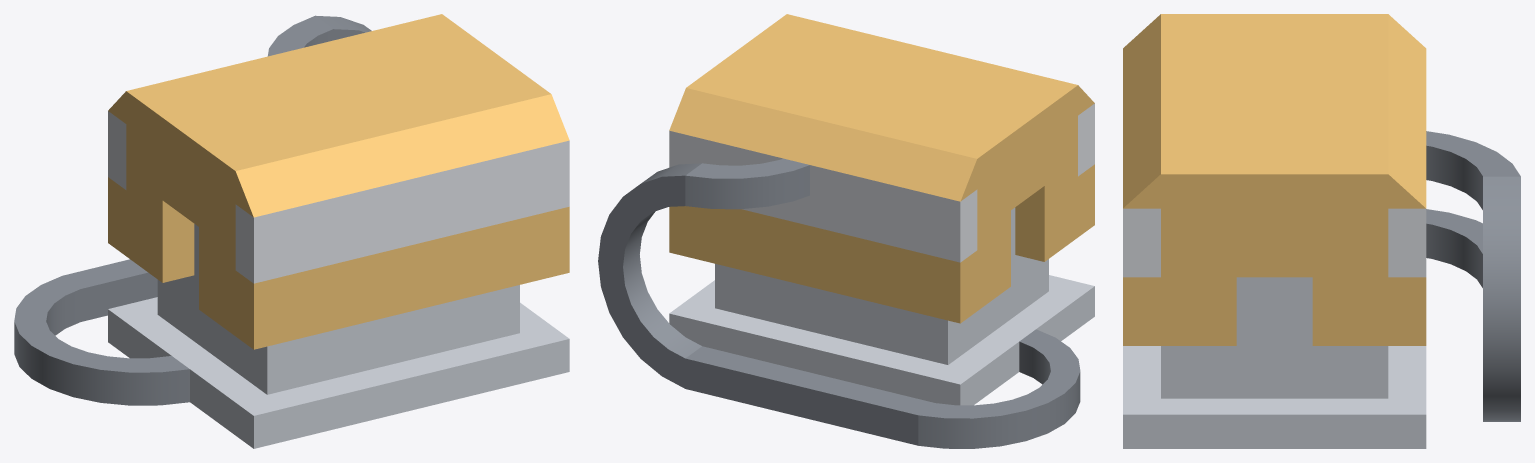
The model's file is machine_generator.glb.
The picture shows the model from 3 angles, left to right: view 1: azimuth 30°, elevation 25°; view 2: azimuth 150°, elevation 25°; view 3: azimuth 270°, elevation 25°; orthographic projection. The views are drawn at different scales.
Parts seen in each view (by area): view 1: machine_generator; view 2: machine_generator; view 3: machine_generator.
Boxes of the visible parts, <box> form: machine_generator: <box>14,14,569,448</box>; machine_generator: <box>598,14,1094,448</box>; machine_generator: <box>1123,14,1520,448</box>.
Size of the model in its own units: 0.7 by 0.4 by 0.525.
Materials: 1 (1 with a texture image).
